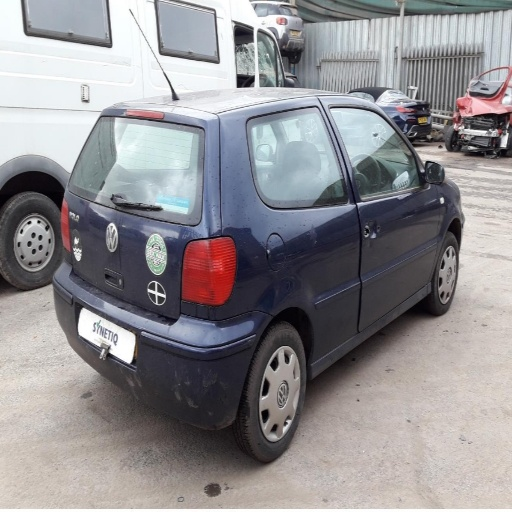rust: (182, 406, 237, 431)
scratch: (169, 369, 201, 412), (195, 366, 228, 398), (124, 375, 146, 402), (205, 407, 217, 419)
